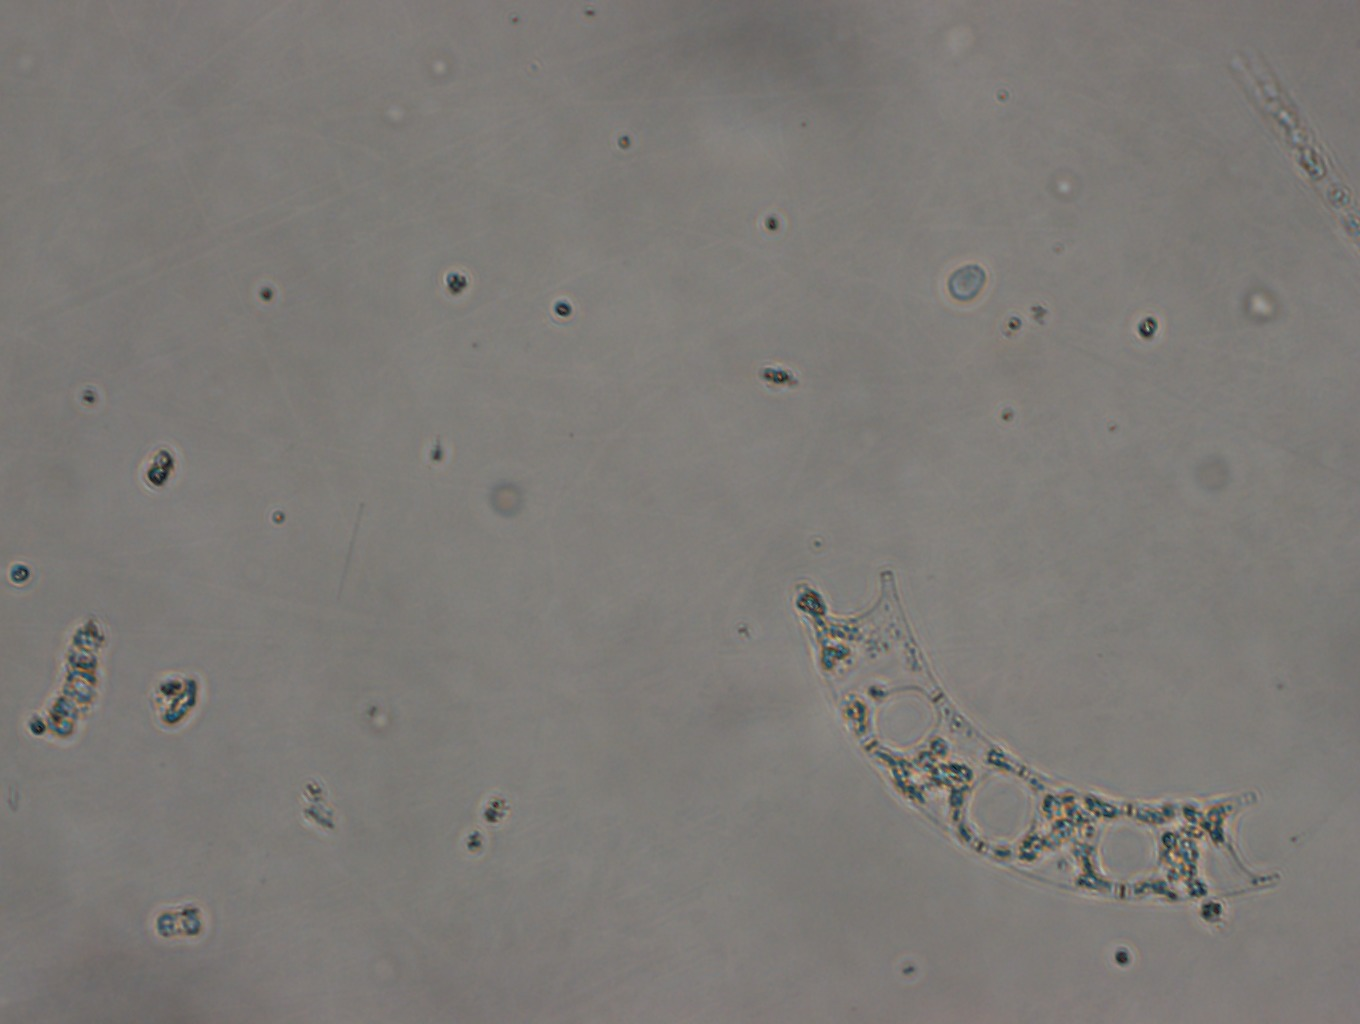eucampia: (796, 565, 1275, 918)
